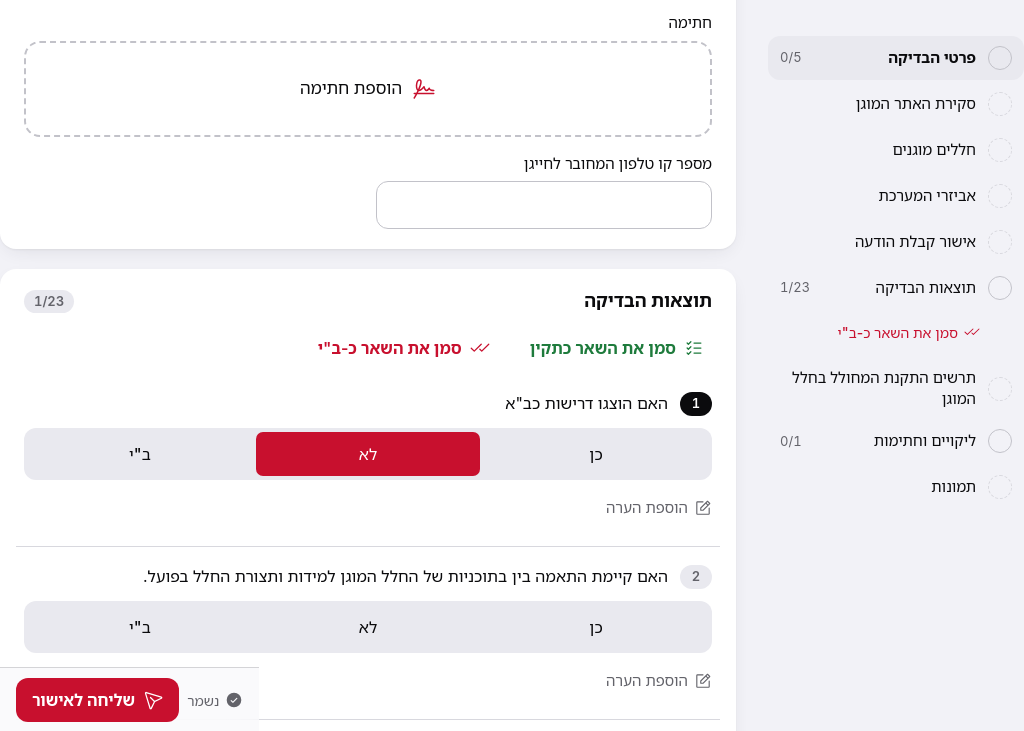
Test case: FormFiller › mark rest as NA fills only unanswered checks
(page scrolled)
Click the 2nd button "סמן את השאר כ-ב\"י": (404, 348) x1=302 y1=326 x2=506 y2=370
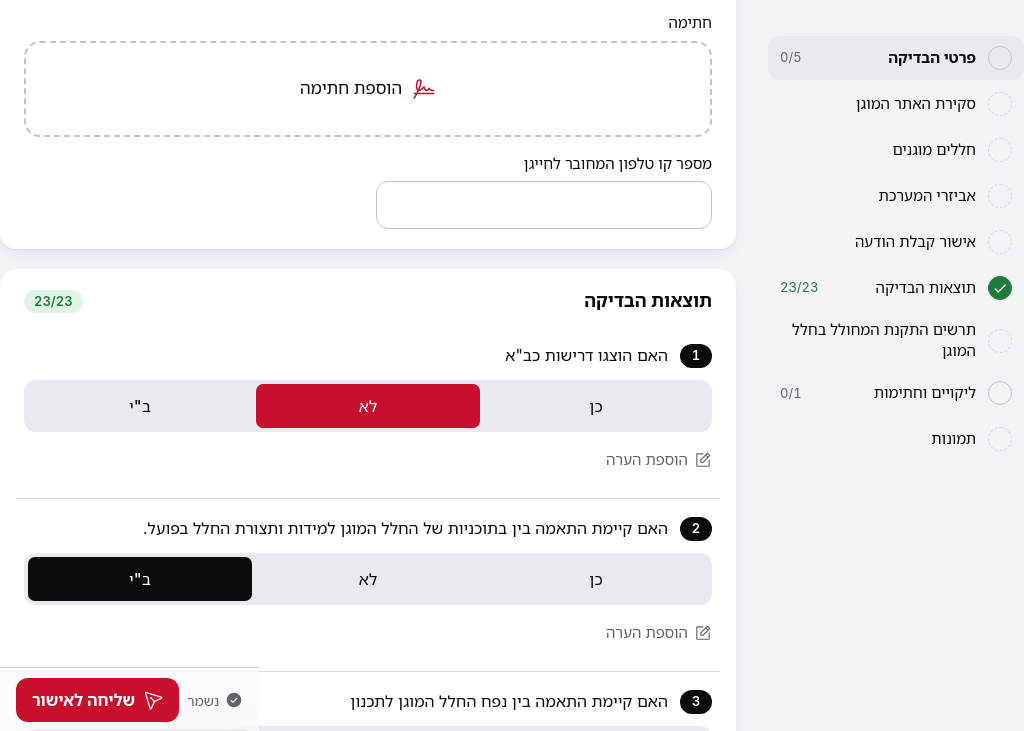
Expected: the 2nd text "23/23" is shown, x1=24 y1=290 x2=83 y2=313
